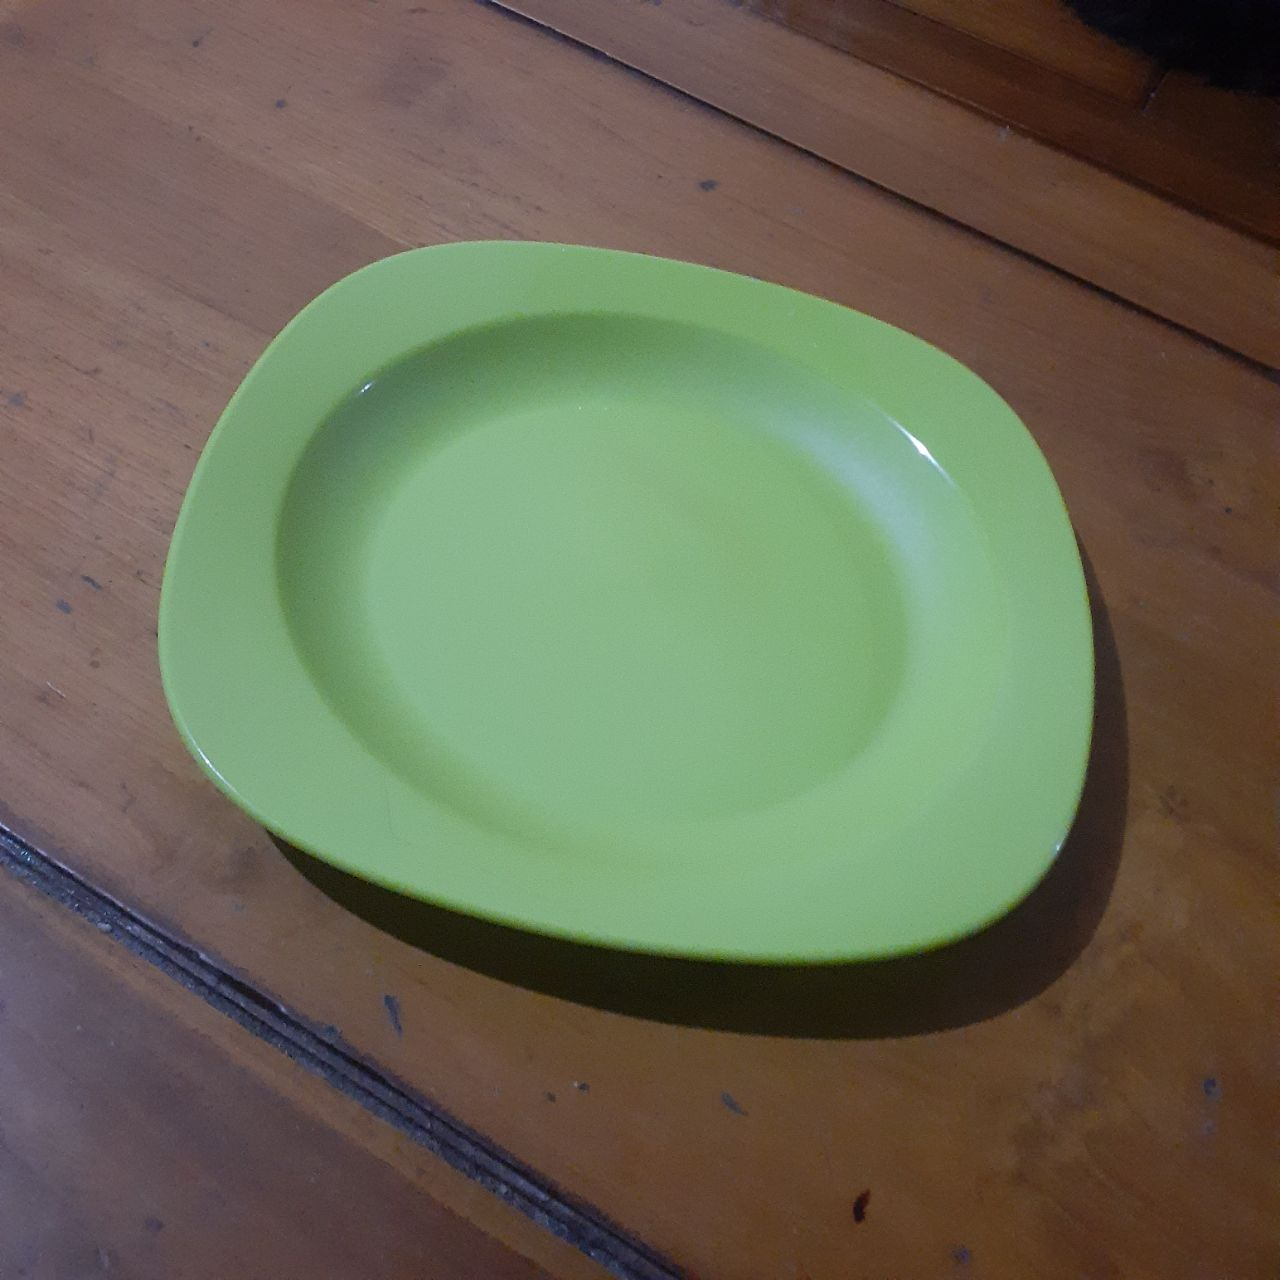piring: (157, 236, 1103, 962)
